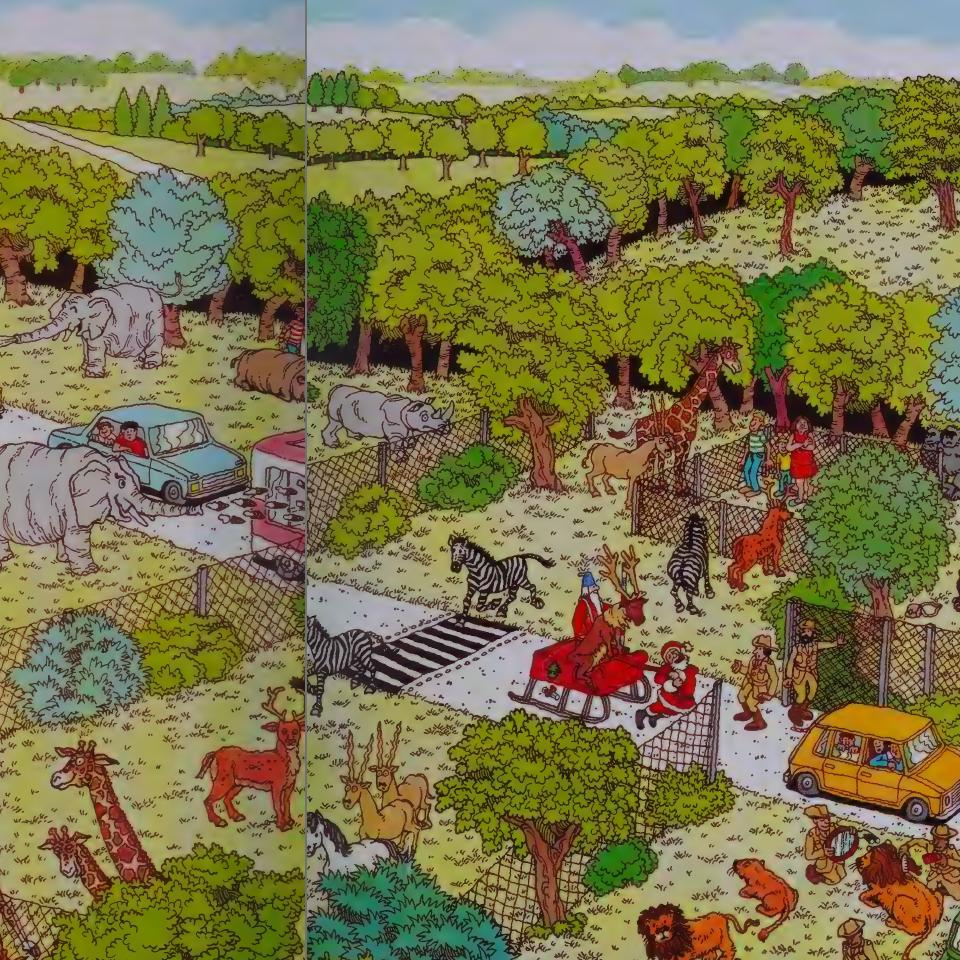waldo: (286, 299, 305, 324)
